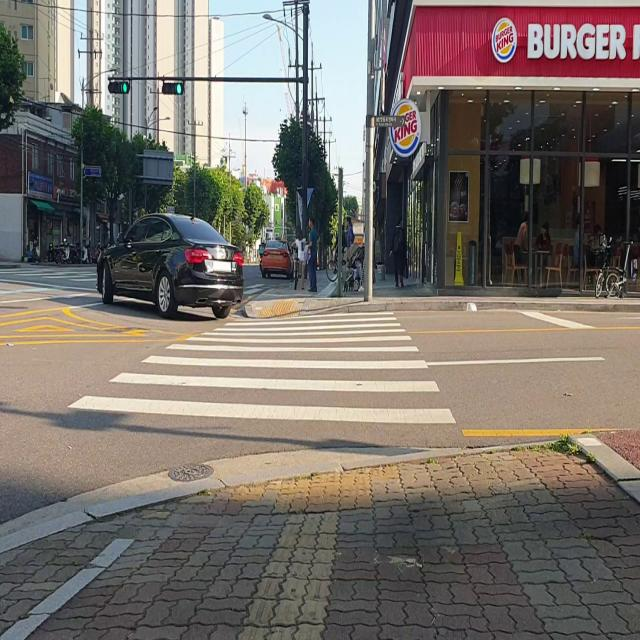횡단보도: (65, 308, 459, 428)
